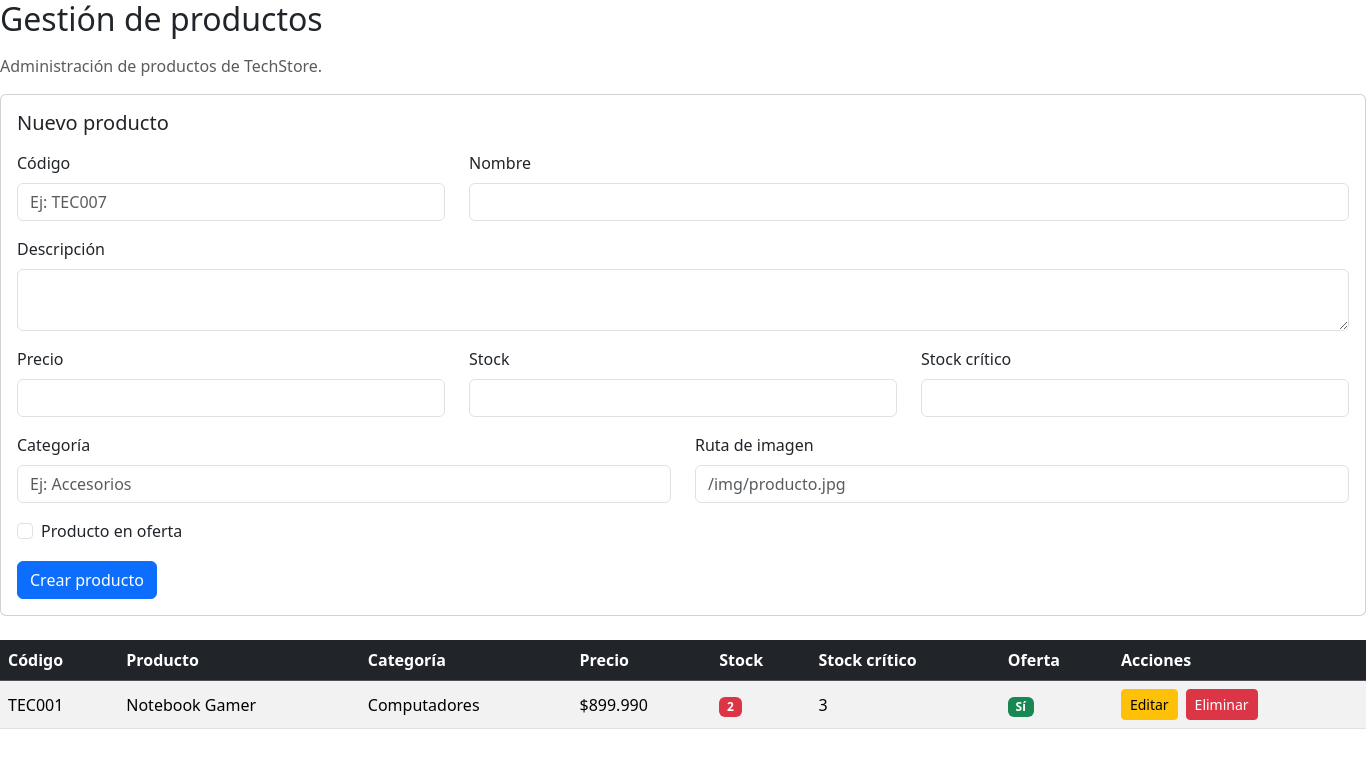
Test: AdminProductos › cancela correctamente la edición
What coordinates should you click on to do the following:
click the button "Editar"
I would click on:
 (1149, 705)
Its box is left=1121, top=689, right=1178, bottom=720.
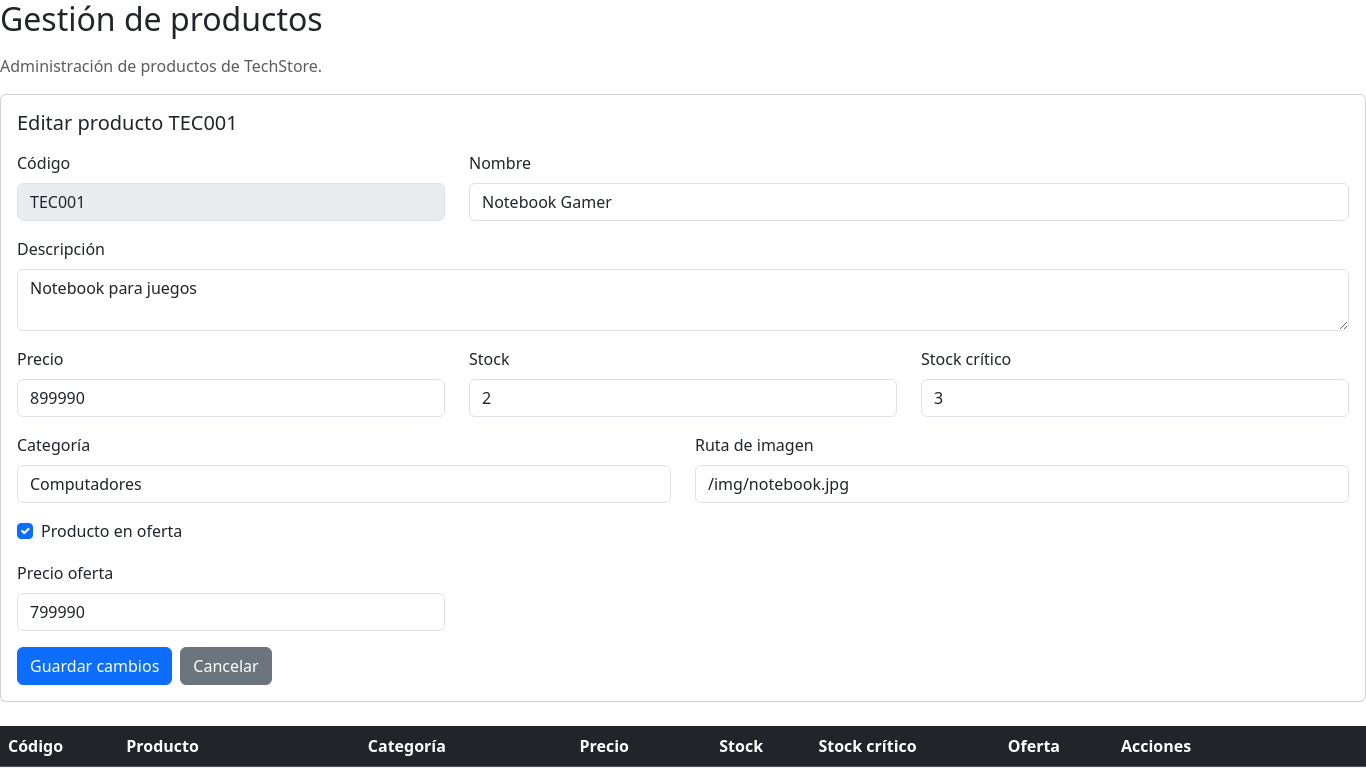
Expected: the button "Cancelar" is shown
What coordinates should you click on to do the following:
click the button "Cancelar"
I would click on:
 (226, 666)
Its box is left=180, top=647, right=272, bottom=685.
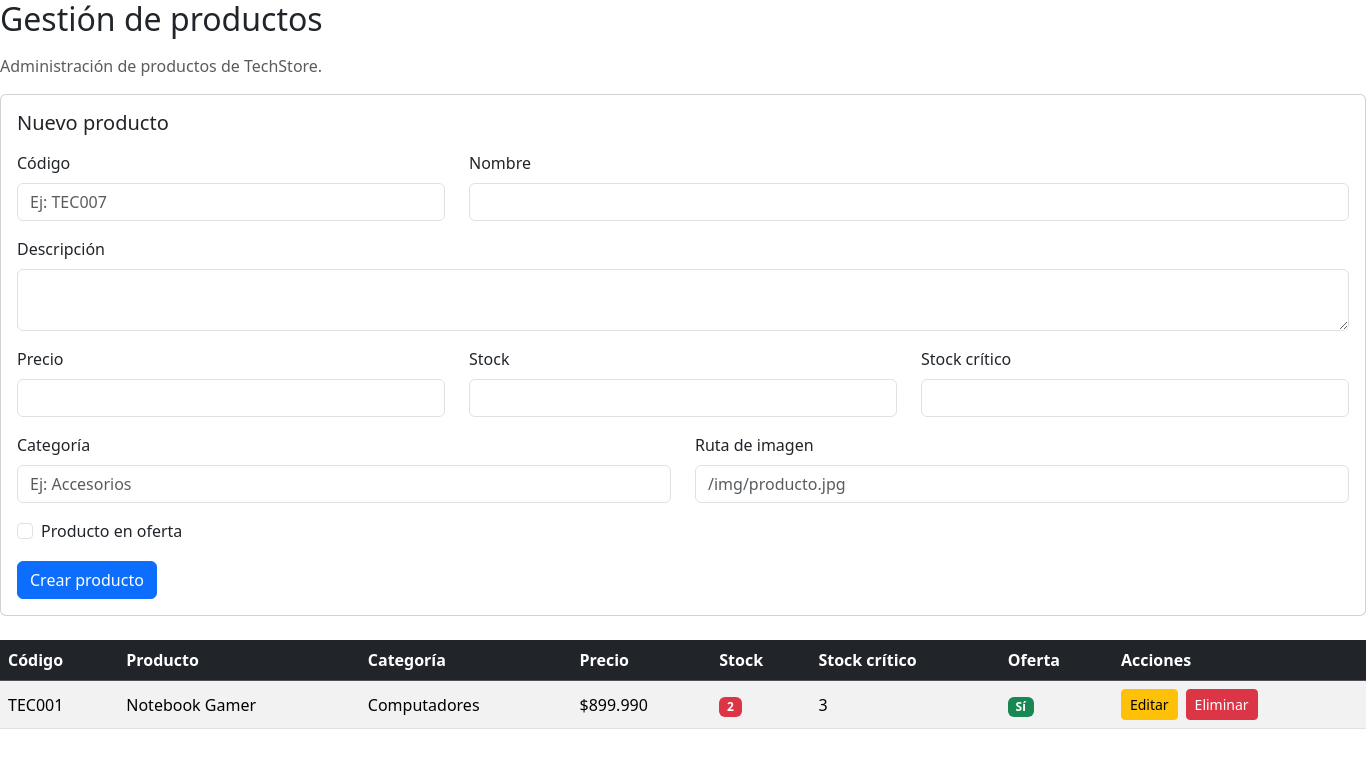
Expected: the heading "Nuevo producto" is shown, left=17, top=109, right=169, bottom=136
Expected: the field labelled "Código" is enabled, left=17, top=183, right=445, bottom=221
Expected: the field labelled "Código" is empty, left=17, top=183, right=445, bottom=221
